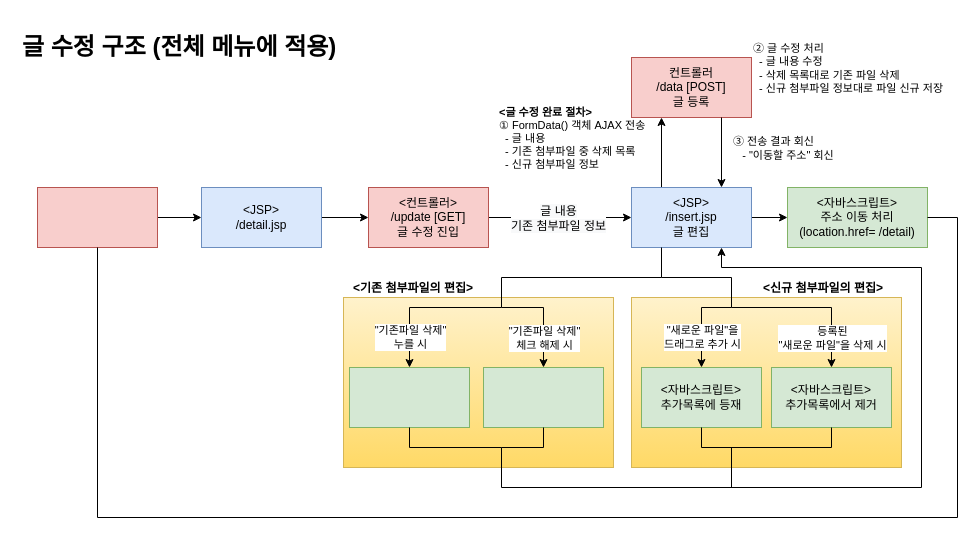
The diagram is 976 pixels wide and 536 high, and some of its shapes have lost their labels. Here are the shapes that lost their labels. From the top down, the centre of each, then its label:
At (97,217): "<컨트롤러> /detail [GET]".
At (409,397): "<자바스크립트> 삭제목록에 등재".
At (543,397): "<자바스크립트> 삭제목록에서 제거".
